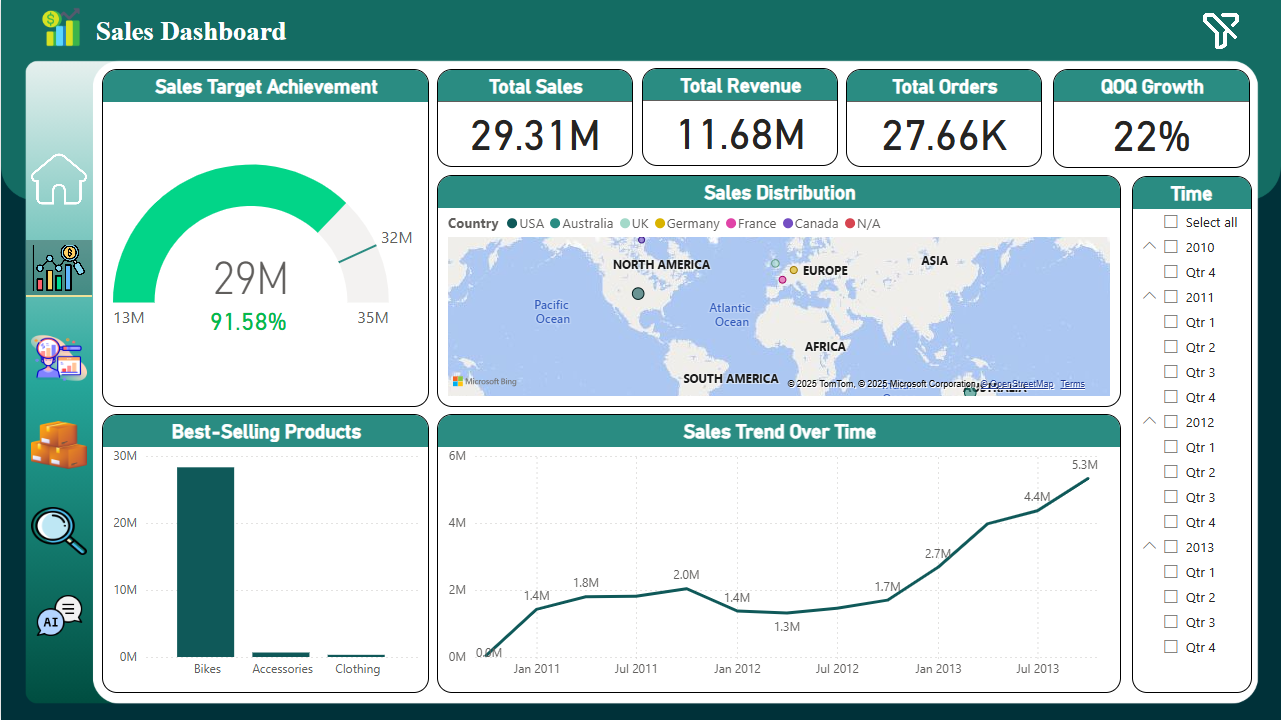

The page's visual inventory and layout, read from the dashboard file:
{"tool":"powerbi","page":{"name":"Main KPI Dashboard","canvas":[1280,720],"ordinal":1},"visuals":[{"type":"textbox","title":"Sales Dashboard","box":[82.2,15.6,215.6,38.9],"z":0,"group":"g2"},{"type":"columnChart","title":"Best-Selling Products","fields":{"Y":["Sum(gold fact_sales.sales_amount)"],"Category":["gold report_products.category"]},"box":[101,414,327,279],"z":0},{"type":"image","box":[27.8,0,63.3,54.4],"z":1000,"group":"g2"},{"type":"group","id":"g1","title":"Group 2","box":[101,69,327,338],"z":1000},{"type":"card","title":"QOQ Growth","fields":{"Values":["Date_Table.YOY Growth"]},"box":[1052.2,68.9,196.7,98.9],"z":2000},{"type":"card","fields":{"Values":["Date_Table.QOQ %"]},"box":[203.3,303.5,87.5,34],"z":3000},{"type":"card","title":"Total Sales","fields":{"Values":["Sum(gold fact_sales.sales_amount)"]},"box":[435.6,68.9,196.7,97.8],"z":4000},{"type":"map","title":"Sales Distribution","fields":{"Category":["gold dim_customers.country"],"Series":["gold dim_customers.country"],"Size":["Sum(gold fact_sales.sales_amount)"]},"box":[435.7,175.1,684.7,231.5],"z":5000},{"type":"gauge","title":"Sales Target Achievement","fields":{"Y":["Sum(gold report_customers.total_sales)"],"MaxValue":["gold fact_sales.max_sales"],"MinValue":["gold fact_sales.min_sales"],"TargetValue":["gold fact_sales.target_value"]},"box":[101,69,327,338],"z":6000,"group":"g1"},{"type":"slicer","title":"Time","fields":{"Values":["Date_Table.Date.Variation.Date Hierarchy.Year","Date_Table.Date.Variation.Date Hierarchy.Quarter"]},"box":[1131.2,176,119.6,517.4],"z":6000},{"type":"group","id":"g2","title":"Group 1","box":[27.8,0,270,54.4],"z":7000},{"type":"image","box":[25,240,66,56],"z":8000},{"type":"image","box":[25,328,66,60],"z":9000},{"type":"image","box":[25,416,66,58],"z":10000},{"type":"lineChart","title":"Sales Trend Over Time","fields":{"Y":["Sum(gold fact_sales.sales_amount)"],"Category":["Date_Table.Date.Variation.Date Hierarchy.Year","Date_Table.Date.Variation.Date Hierarchy.Quarter","Date_Table.Date.Variation.Date Hierarchy.Month","Date_Table.Date.Variation.Date Hierarchy.Day"]},"box":[435.7,414.3,684.7,279.1],"z":11000},{"type":"shape","box":[25,287,66,18],"z":12000},{"type":"image","box":[25,502,66,58],"z":13000},{"type":"card","title":"Total Revenue","fields":{"Values":["gold report_products.Revenue"]},"box":[640.5,68.3,196.8,97.4],"z":14000},{"type":"card","title":"Total Orders","fields":{"Values":["Sum(gold report_customers.total_orders)"]},"box":[845.3,69.3,195.8,97.4],"z":15000},{"type":"image","box":[1191,8,58,46],"z":16000},{"type":"image","box":[25,587,66,57],"z":17000},{"type":"image","box":[25,148,66,62],"z":18000}]}

Visuals, with their boxes in screenshot pixels (x1, y1, x2, y2), scaled from the page's 1280x720 canvas onto the 1281x720 screenshot:
"Sales Dashboard" textbox: region(82, 16, 298, 54)
"Best-Selling Products" columnChart: region(101, 414, 428, 693)
image: region(28, 0, 91, 54)
"Group 2" group: region(101, 69, 428, 407)
"QOQ Growth" card: region(1053, 69, 1250, 168)
card - Date_Table.QOQ %: region(203, 304, 291, 338)
"Total Sales" card: region(436, 69, 633, 167)
"Sales Distribution" map: region(436, 175, 1121, 407)
"Sales Target Achievement" gauge: region(101, 69, 428, 407)
"Time" slicer: region(1132, 176, 1252, 693)
"Group 1" group: region(28, 0, 298, 54)
image: region(25, 240, 91, 296)
image: region(25, 328, 91, 388)
image: region(25, 416, 91, 474)
"Sales Trend Over Time" lineChart: region(436, 414, 1121, 693)
shape: region(25, 287, 91, 305)
image: region(25, 502, 91, 560)
"Total Revenue" card: region(641, 68, 838, 166)
"Total Orders" card: region(846, 69, 1042, 167)
image: region(1192, 8, 1250, 54)
image: region(25, 587, 91, 644)
image: region(25, 148, 91, 210)
